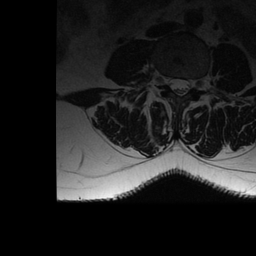CCS_normal: (176, 68, 183, 103)
LFS_normal: (191, 68, 199, 97)
LLS_normal: (183, 68, 191, 99)
RFS_normal: (161, 64, 168, 93)
RLS_normal: (168, 67, 176, 98)
